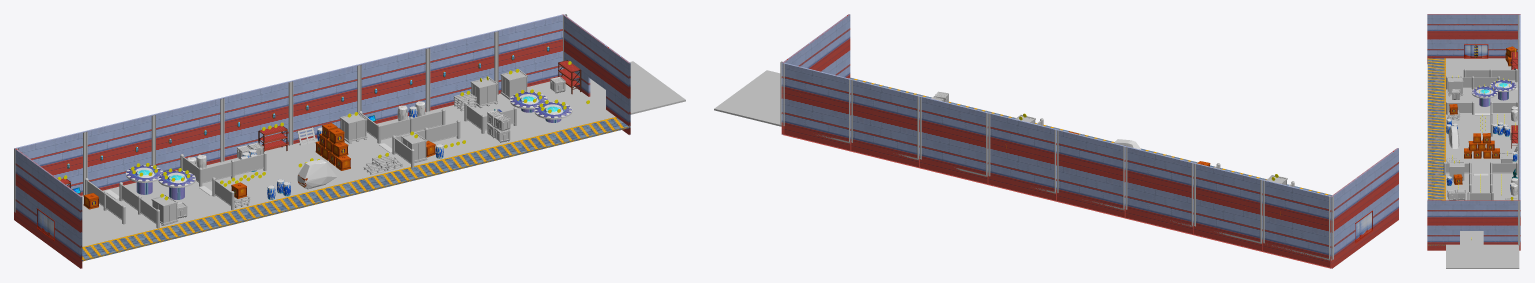
Rendered from Level01.fbx.
The picture shows the model from 3 angles, left to right: view 1: azimuth 30°, elevation 25°; view 2: azimuth 150°, elevation 25°; view 3: azimuth 270°, elevation 25°; orthographic projection. The views are drawn at different scales.
Parts seen in each view (by area): view 1: FloorTileHatched (×8), EndWall01, EndWall002, Wall006, Wall003, Wall002, Wall008, Wall007, Wall005, Wall004, Wall001, FloorTile007 (+21 smaller); view 2: Wall004, Wall008, Wall001, Wall006, Wall002, Wall003, Wall005, Wall007, EndWall01, EndWall002, FloorTile008; view 3: EndWall002, EndWall01, FloorTileHatched (×6), FloorTile008, FloorTile005, FloorTile002, FloorTile, FloorTile003, FloorTile004, FloorTile001, FloorTile007, HugeCrate (+44 smaller).
Boxes of the visible parts, box(x1,y1,x2,y2) form: FloorTileHatched (×8): box(81, 117, 630, 261); EndWall01: box(14, 148, 82, 268); EndWall002: box(562, 14, 630, 134); Wall006: box(358, 47, 427, 123); Wall003: box(153, 98, 221, 172); Wall002: box(84, 114, 153, 190); Wall008: box(495, 14, 562, 93); Wall007: box(427, 31, 495, 110); Wall005: box(290, 64, 358, 143); Wall004: box(221, 81, 290, 160); Wall001: box(16, 131, 84, 195); FloorTile007: box(497, 81, 615, 132); Wall004: box(1056, 129, 1125, 218); Wall008: box(781, 62, 851, 151); Wall001: box(1262, 179, 1331, 268); Wall006: box(919, 96, 988, 184); Wall002: box(1193, 162, 1262, 251); Wall003: box(1125, 146, 1193, 234); Wall005: box(987, 112, 1056, 201); Wall007: box(850, 79, 919, 167); EndWall01: box(1330, 148, 1398, 268); EndWall002: box(781, 14, 850, 134); FloorTile008: box(714, 70, 781, 126); EndWall002: box(1427, 200, 1520, 250); EndWall01: box(1427, 14, 1520, 63); FloorTileHatched (×6): box(1427, 58, 1445, 197); FloorTile008: box(1446, 244, 1519, 268); FloorTile005: box(1446, 174, 1517, 197); FloorTile002: box(1446, 105, 1517, 128); FloorTile: box(1446, 58, 1515, 81); FloorTile003: box(1446, 128, 1517, 151); FloorTile004: box(1446, 151, 1517, 174); FloorTile001: box(1446, 81, 1517, 104); FloorTile007: box(1460, 231, 1483, 244); HugeCrate: box(1447, 76, 1463, 96).
Bounding box in the file's own units: 81.25 × 15.21 × 9.43.
